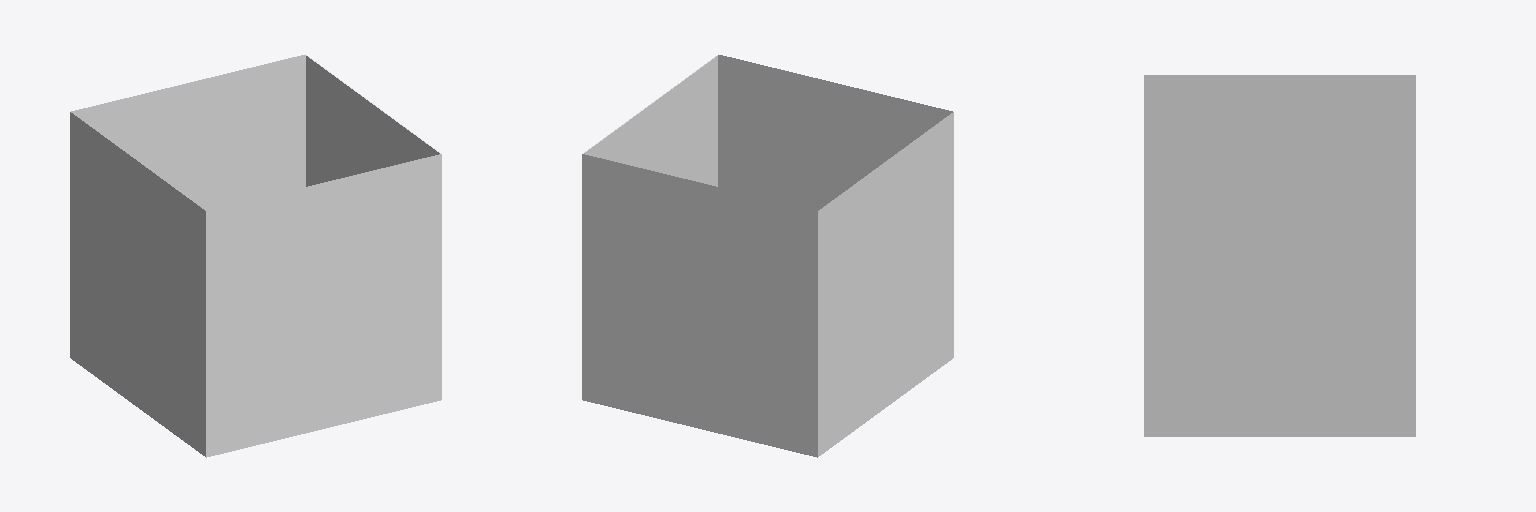
The picture shows the model from 3 angles: view 1: azimuth 30°, elevation 25°; view 2: azimuth 150°, elevation 25°; view 3: azimuth 270°, elevation 25°; orthographic projection.
Parts seen in each view (by area): view 1: Cube_Cube.001; view 2: Cube_Cube.001; view 3: Cube_Cube.001.
Part boxes in pixels (x1,y1,x2,y2): Cube_Cube.001: (70,54,441,457); Cube_Cube.001: (582,54,953,457); Cube_Cube.001: (1144,75,1415,436).
Size of the model in its own units: 1 by 1 by 1.
1 materials, 1 textured.